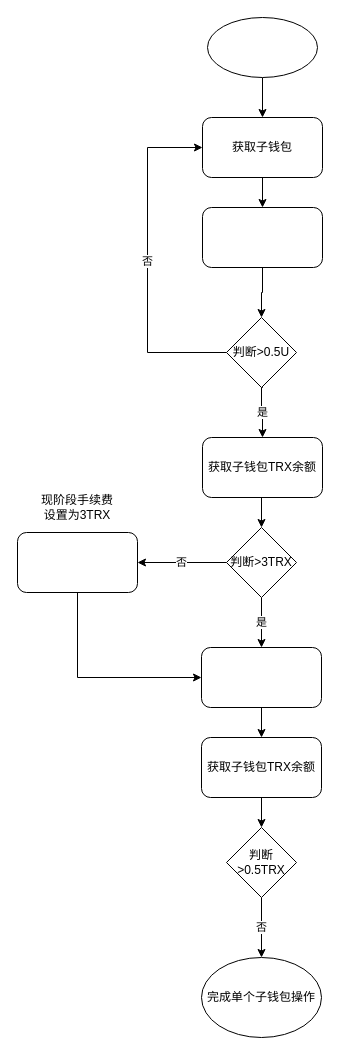
Some shapes in this 340 by 1055 pixel diagram are drawn without their labels. The shapes that lost their labels are listed below. From the top down, each one's centre as x and y in pixels, then its label:
point (262, 47): 键入主钱包信息
point (262, 237): 查询子钱包usdt余额
point (77, 562): 主钱包转3TRX给子钱包
point (261, 677): 子钱包转账到主钱包
